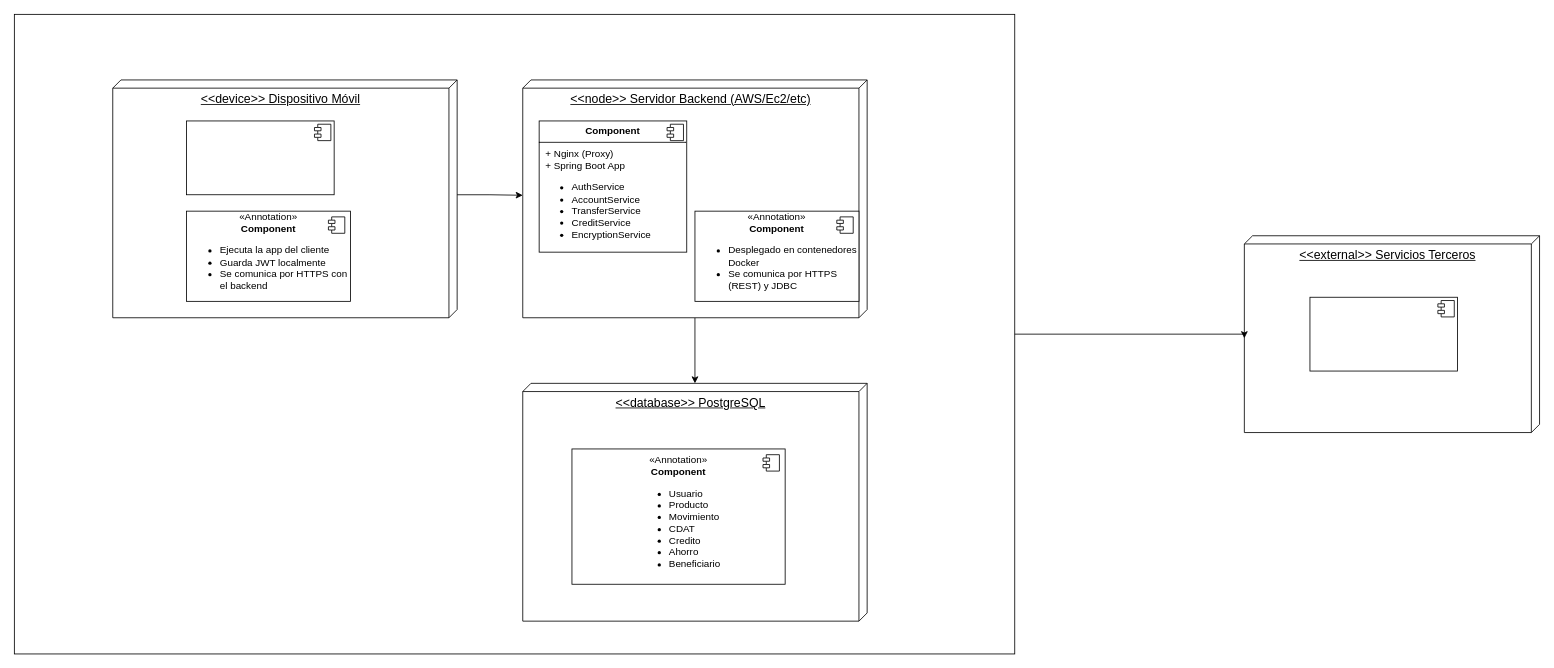
Image size: 1554x668. Some labels were removed from this diagram. Each missing label, with the centre of its shape:
Component + API Bancaria + Pasarela de Pagos (PSE) + Servicio Biometría: the point at 1383,333
Component + App Ionic Angular + StorageService: the point at 260,157
